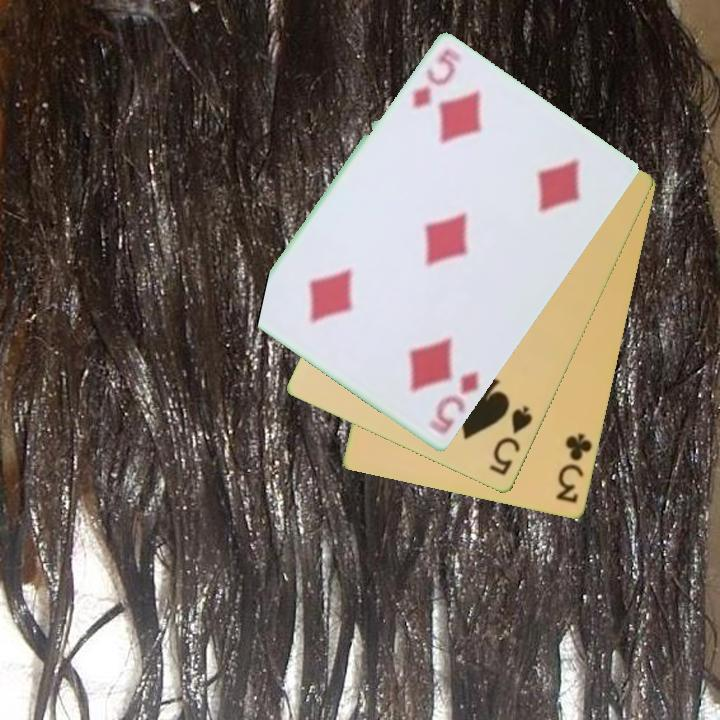3c: (552, 430, 596, 507)
5d: (425, 367, 482, 439), (408, 45, 458, 112)
5s: (486, 403, 536, 479)
